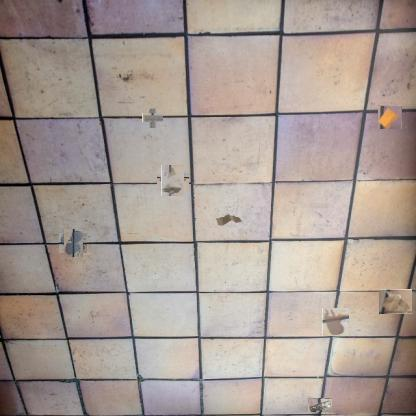dirty: (378, 289, 412, 314), (159, 167, 187, 194), (378, 106, 402, 130), (214, 212, 244, 228), (308, 398, 332, 412), (145, 110, 160, 125)
liquid: (322, 309, 350, 336), (61, 231, 85, 255)
